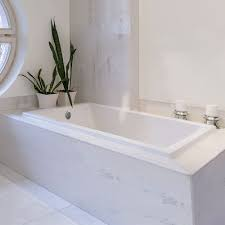bathub: (4, 82, 225, 225)
